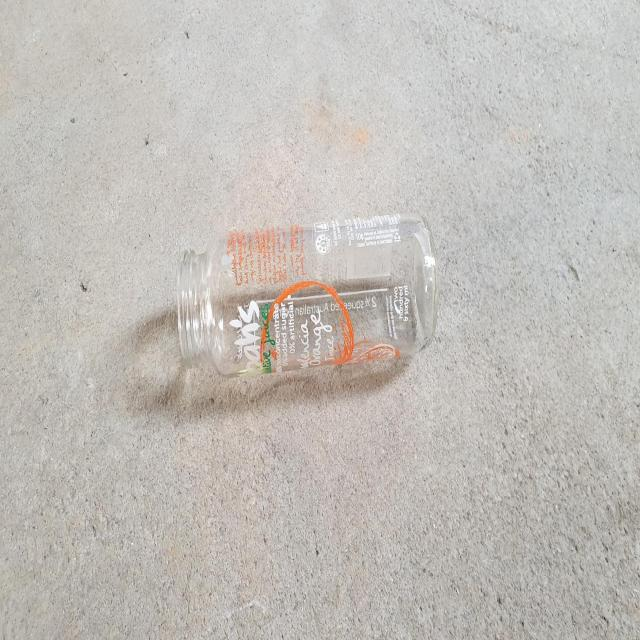glass: (177, 213, 438, 375)
